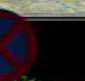No Stopping: (0, 1, 45, 79)
